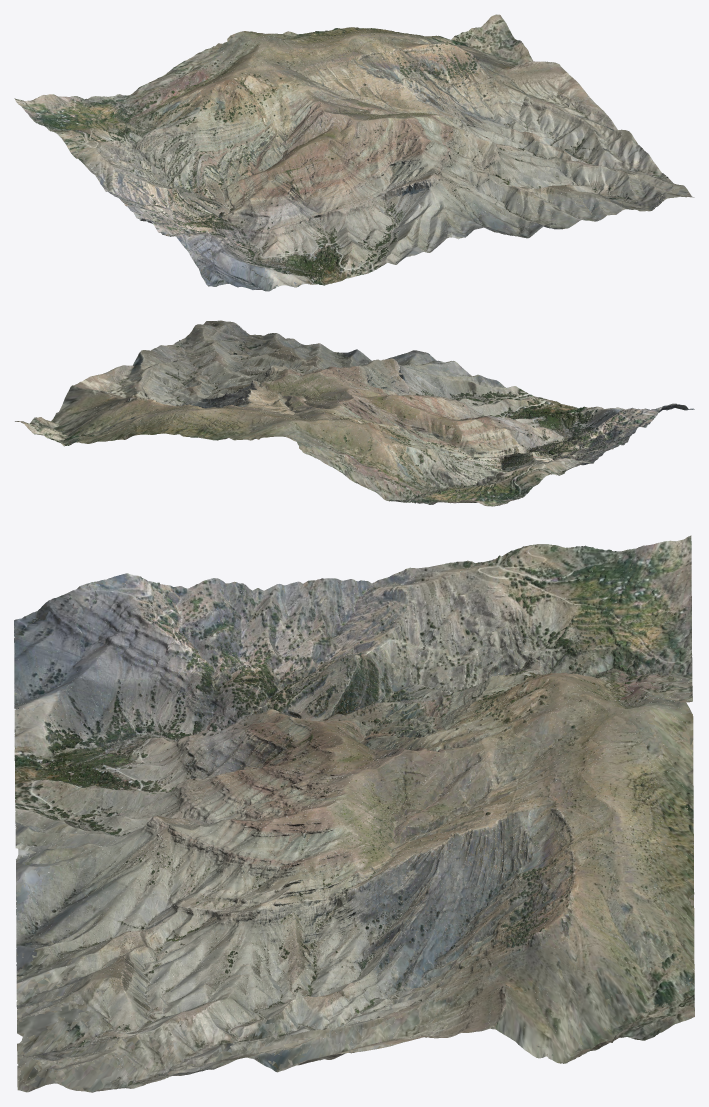
Rendered from medium.glb.
3 renders of one model, top to bottom at view 1: azimuth 30°, elevation 25°; view 2: azimuth 150°, elevation 25°; view 3: azimuth 270°, elevation 25°, orthographic. The views are drawn at different scales.
Parts seen in each view (by area): view 1: mezra; view 2: mezra; view 3: mezra.
Part boxes in pixels (left/top/right/bottom): mezra: left=14, top=14, right=694, bottom=291; mezra: left=15, top=320, right=694, bottom=506; mezra: left=14, top=535, right=694, bottom=1092.
Bounding box in the file's own units: 3148 × 579 × 2167.
20 materials, 20 textured.
